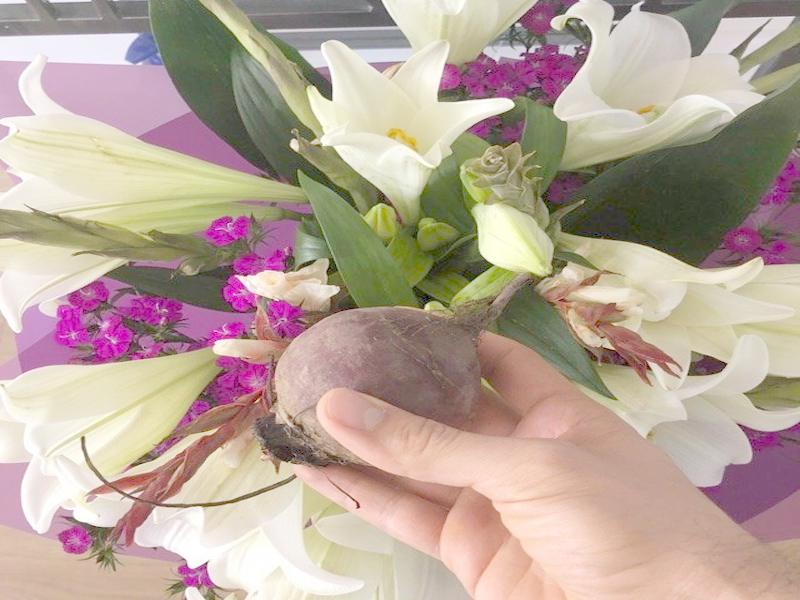Beet: (254, 269, 538, 467)
